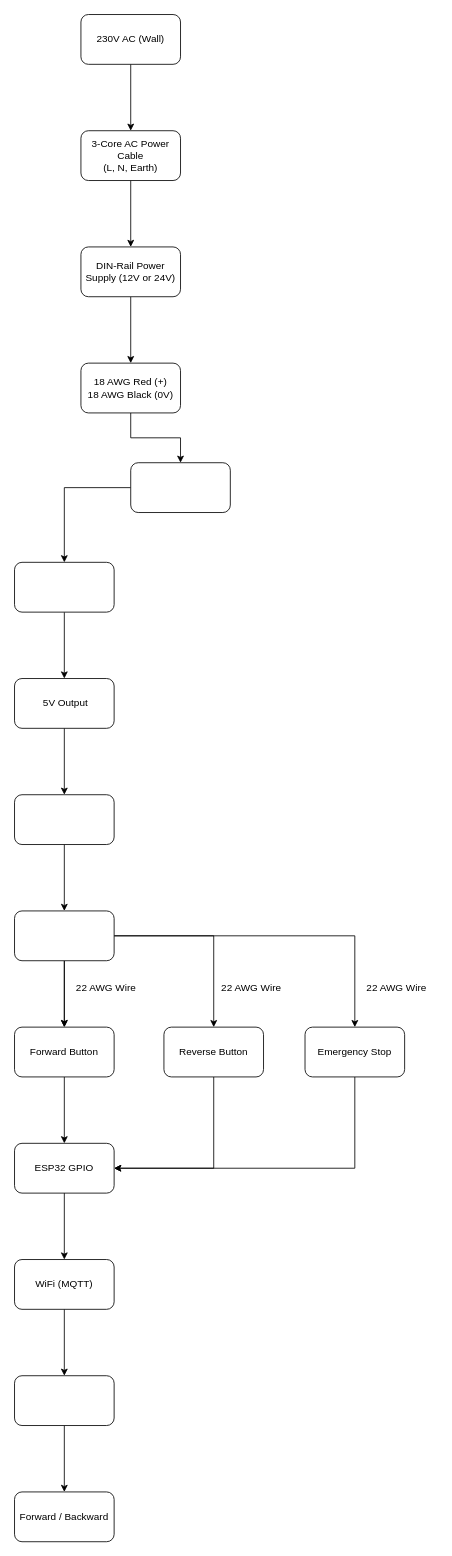
Some shapes in this 452 by 1556 pixel diagram are drawn without their labels. Each missing label, with the box of its shape:
12V to 5V DC-DC Converter: (14, 561, 114, 612)
ESP32-S3 Controller: (14, 910, 114, 961)
Rhino AMR API: (14, 1375, 114, 1426)
USB-C / VIN: (14, 794, 114, 845)
WAGO DIN-Rail Terminal Blocks: (130, 462, 230, 513)
